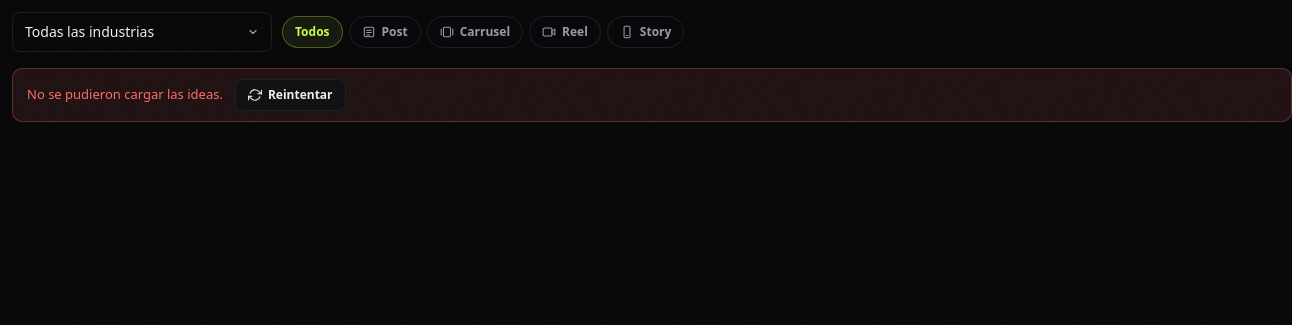
<ContentLibraryBrowser /> › si la carga falla lo dice y permite reintentar
Expected: the message shows "No se pudieron cargar las ideas.", [27,85,223,103]
Click the button "Reintentar": (290, 95) [235,79,346,111]
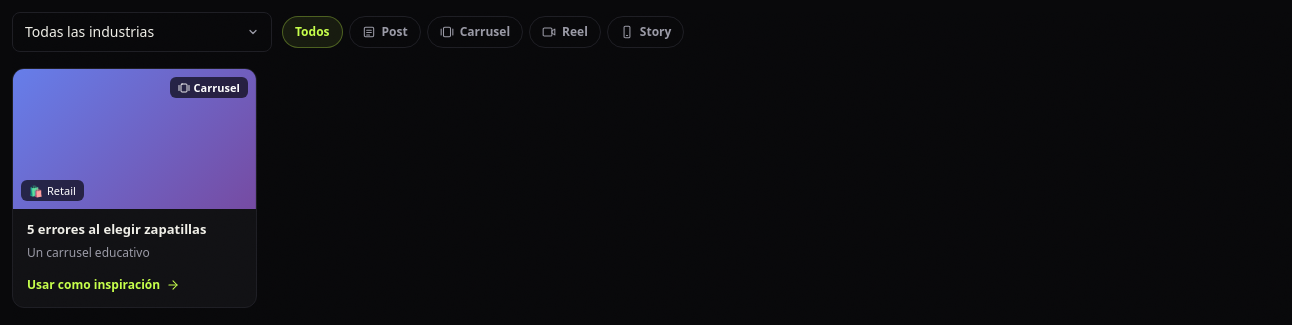
Expected: the button "5 errores al elegir zapatillas" is shown, [12,68,257,308]
